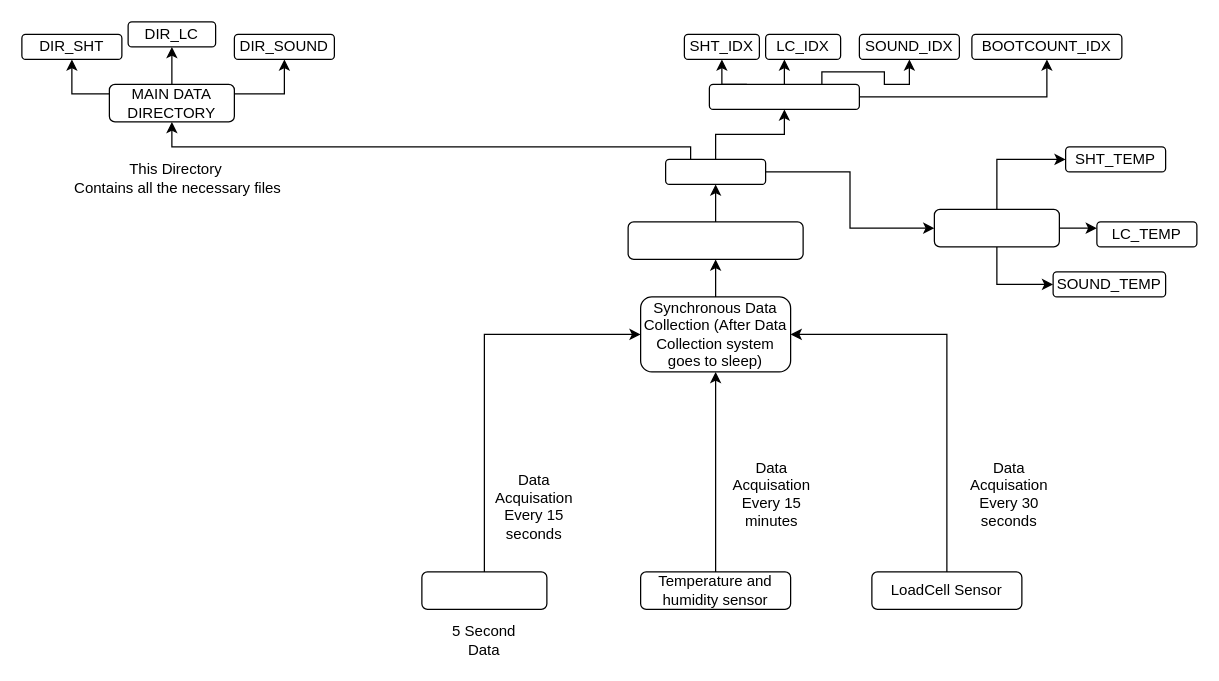
Image size: 1219x681. Some labels were removed from this diagram. The centre of each missing label's shape, as x and y in pixels:
"Acoustic Sensor" goes at pixel 484 590.
"FireBeetle 2 ESP32 - S3" goes at pixel 715 240.
"INDEX DIRECTORY" goes at pixel 783 96.
"SD Card" goes at pixel 715 171.
"TEMPORARY DIRECTORY" goes at pixel 996 227.
